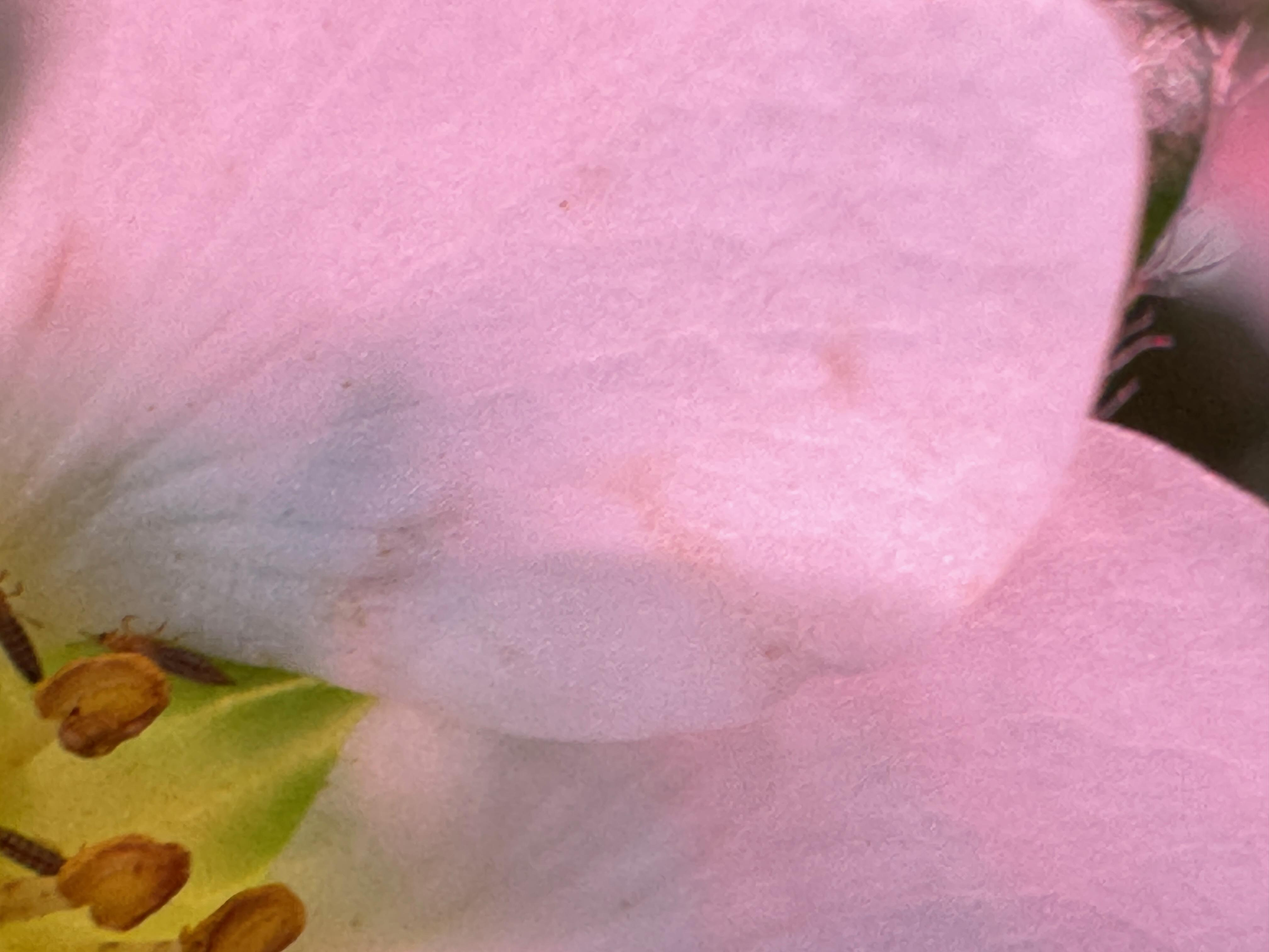tiny_pests: (52, 575, 275, 722)
